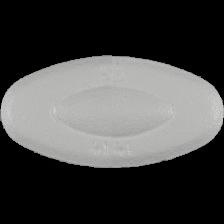0007-4141: (0, 0, 224, 224)
